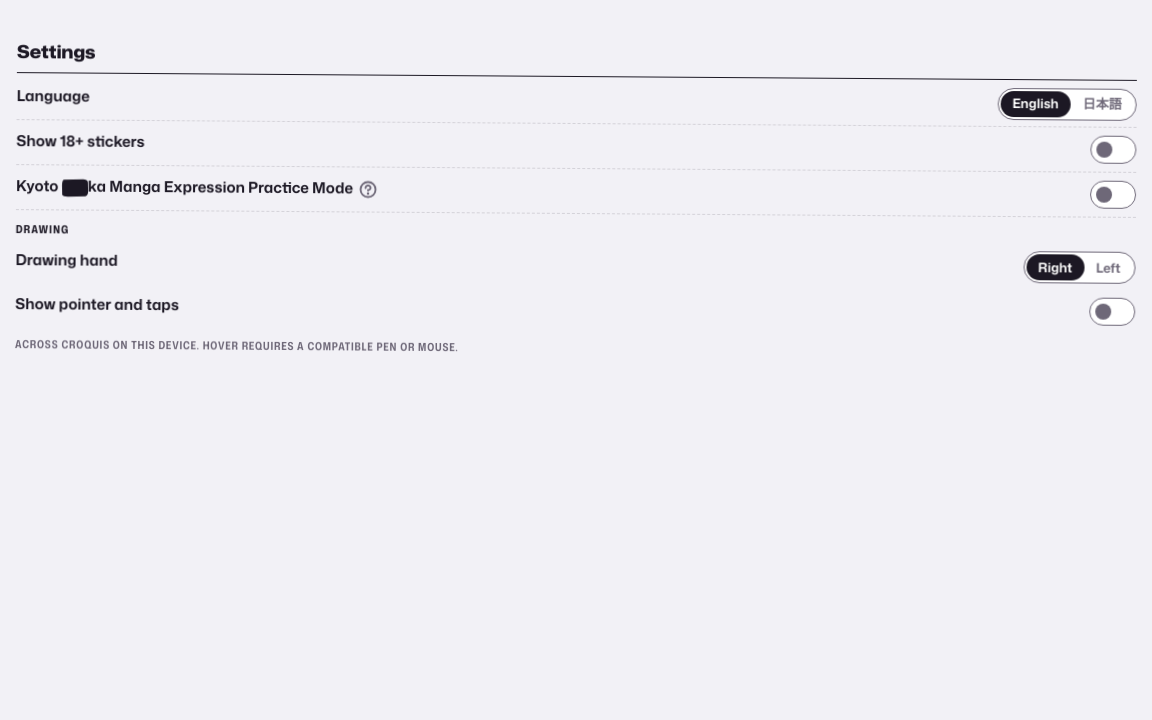
the Settings note's language › says why a choice wasn't saved, and leaves this phone's choice and the app as they were
Click the radio button labelled "日本語": (1102, 104) [1071,91,1134,118]
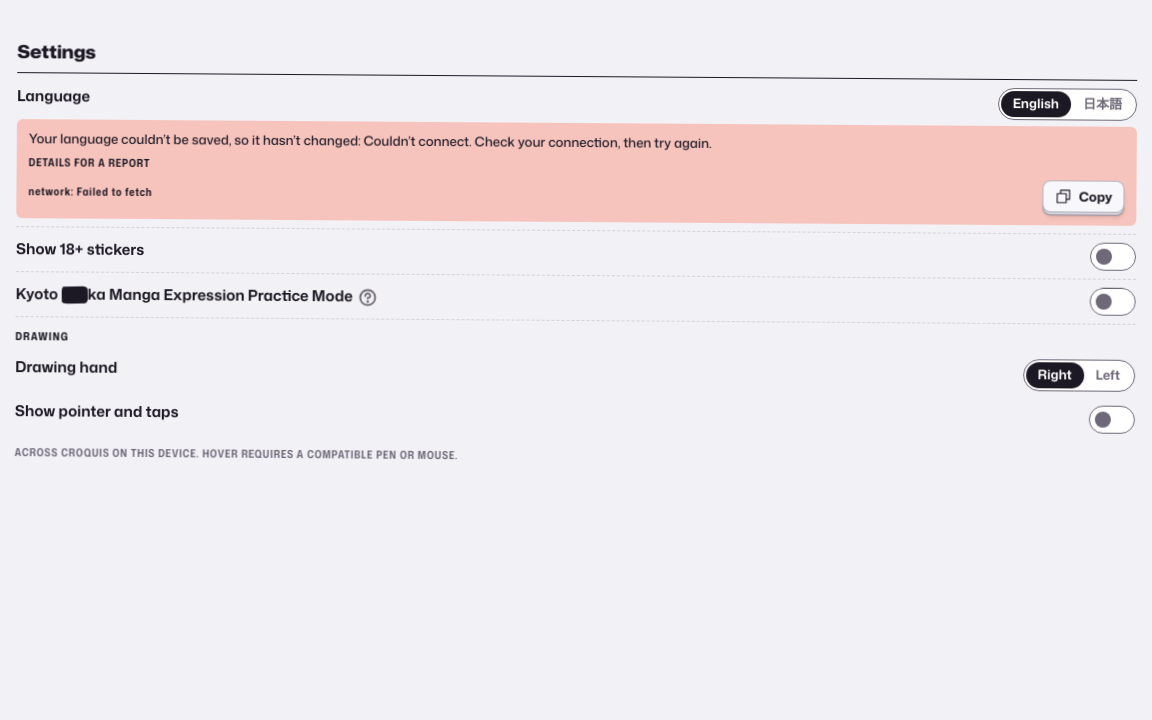
Expected: the radio button labelled "English" is shown, [1001,91,1071,117]
Result: the message shows "Couldn’t connect. Check your connection, then try again." at [29,129,712,152]
Result: the text "Failed to fetch" is shown at [28,183,152,200]
